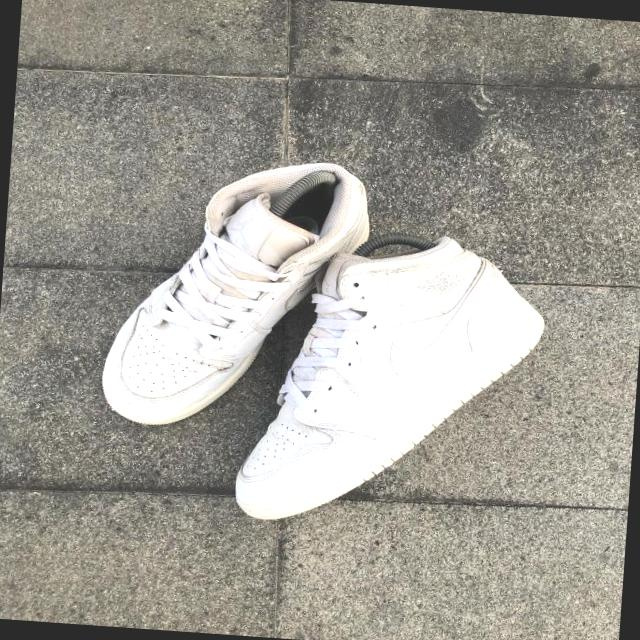nike_fake_jordan: (230, 222, 552, 546), (99, 144, 374, 440)
